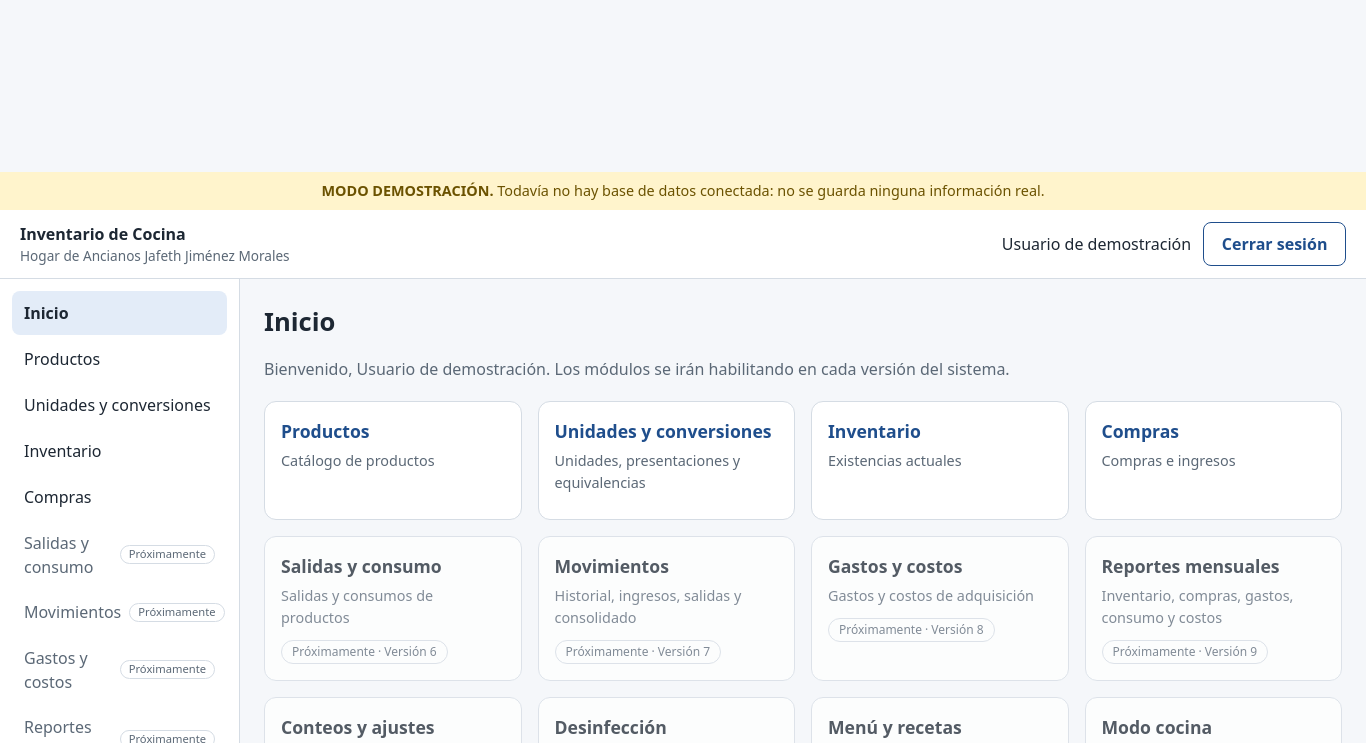
acceso › el menú y el inicio llevan al módulo de productos
(page scrolled)
expect the heading "Inicio" is shown: met, box [264, 304, 335, 339]
Click the link "Productos": [62, 359] box [24, 348, 100, 370]
(page scrolled)
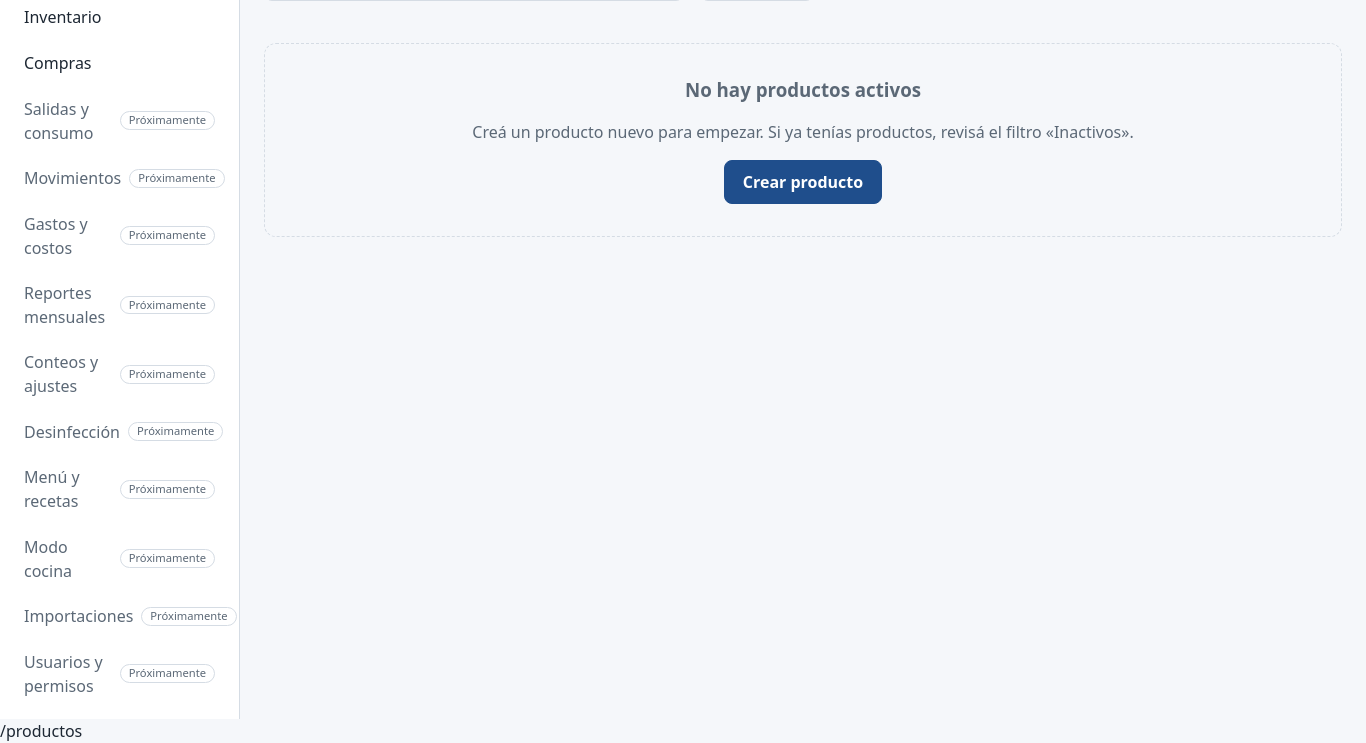
expect the text with test id "ubicacion" reads "/productos": met, box [0, 720, 82, 742]
